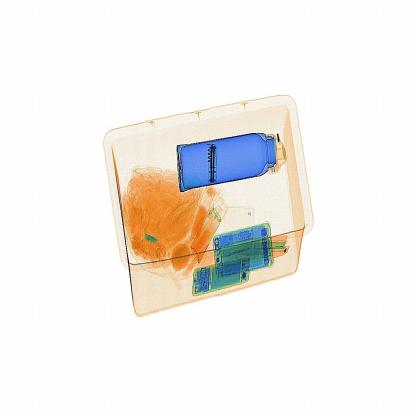scissors: (202, 135, 231, 186)
